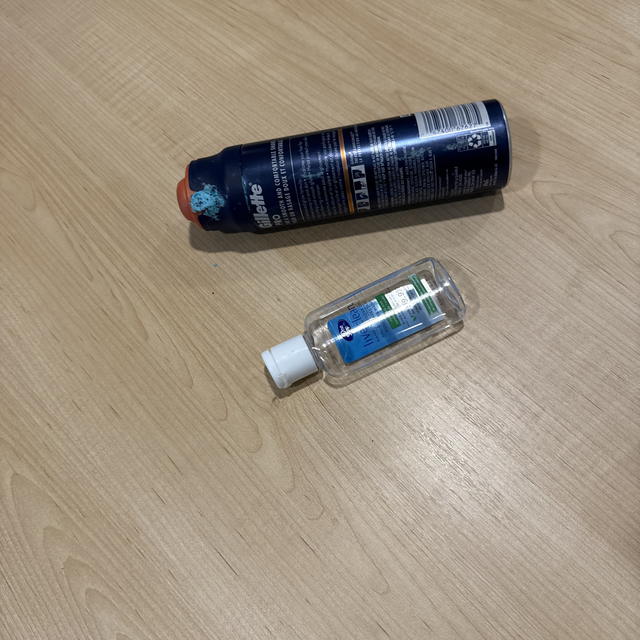Aerosol: (146, 85, 541, 237)
Canola Oil: (245, 242, 512, 408)
